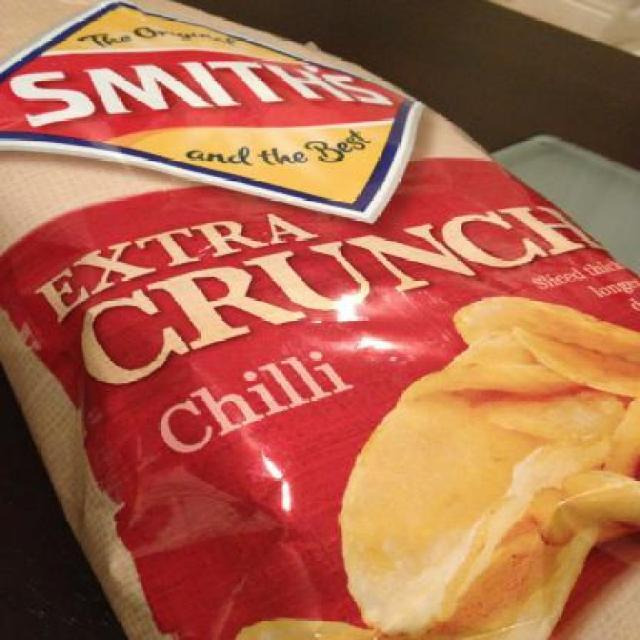Chips: (1, 2, 634, 630)
